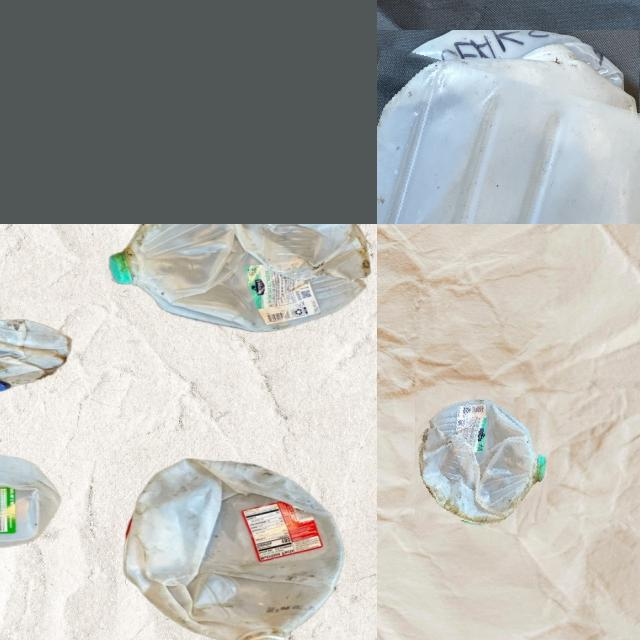milk-jug: (377, 54, 640, 224), (115, 451, 343, 640), (108, 224, 364, 328), (409, 387, 554, 531), (0, 442, 55, 553), (0, 314, 69, 398)
